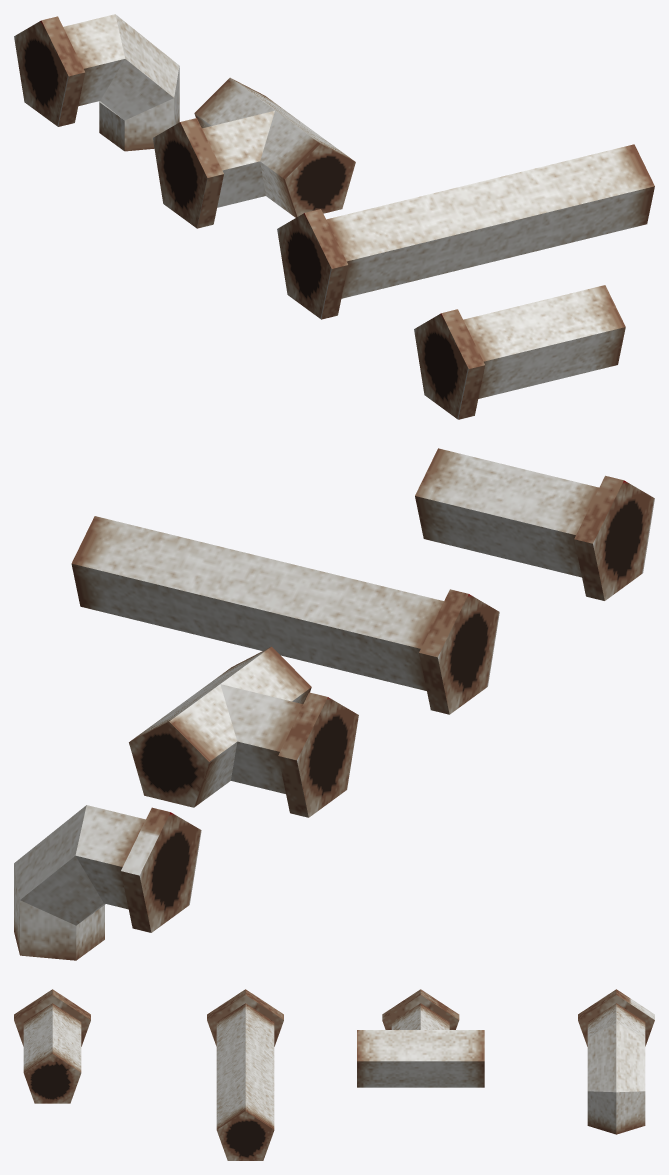
The model's file is Pipes.fbx.
3 renders of one model, top to bottom at view 1: azimuth 30°, elevation 25°; view 2: azimuth 150°, elevation 25°; view 3: azimuth 270°, elevation 25°, orthographic. The views are drawn at different scales.
Visible parts, largest first — view 1: Pipe Long, Pipe T, Pipe Short, Pipe Corner; view 2: Pipe Long, Pipe T, Pipe Short, Pipe Corner; view 3: Pipe Long, Pipe T, Pipe Corner, Pipe Short.
Boxes of the visible parts, x1=… form: Pipe Long: x1=277, y1=144, x2=654, y2=319; Pipe T: x1=153, y1=77, x2=355, y2=228; Pipe Short: x1=414, y1=285, x2=625, y2=419; Pipe Corner: x1=14, y1=14, x2=179, y2=151; Pipe Long: x1=71, y1=516, x2=499, y2=714; Pipe T: x1=129, y1=646, x2=358, y2=817; Pipe Short: x1=415, y1=448, x2=654, y2=600; Pipe Corner: x1=14, y1=805, x2=201, y2=960; Pipe Long: x1=207, y1=989, x2=283, y2=1160; Pipe T: x1=357, y1=989, x2=484, y2=1087; Pipe Corner: x1=578, y1=989, x2=654, y2=1134; Pipe Short: x1=14, y1=989, x2=90, y2=1103.
Bounding box in the file's own units: 99.37 × 40 × 237.
